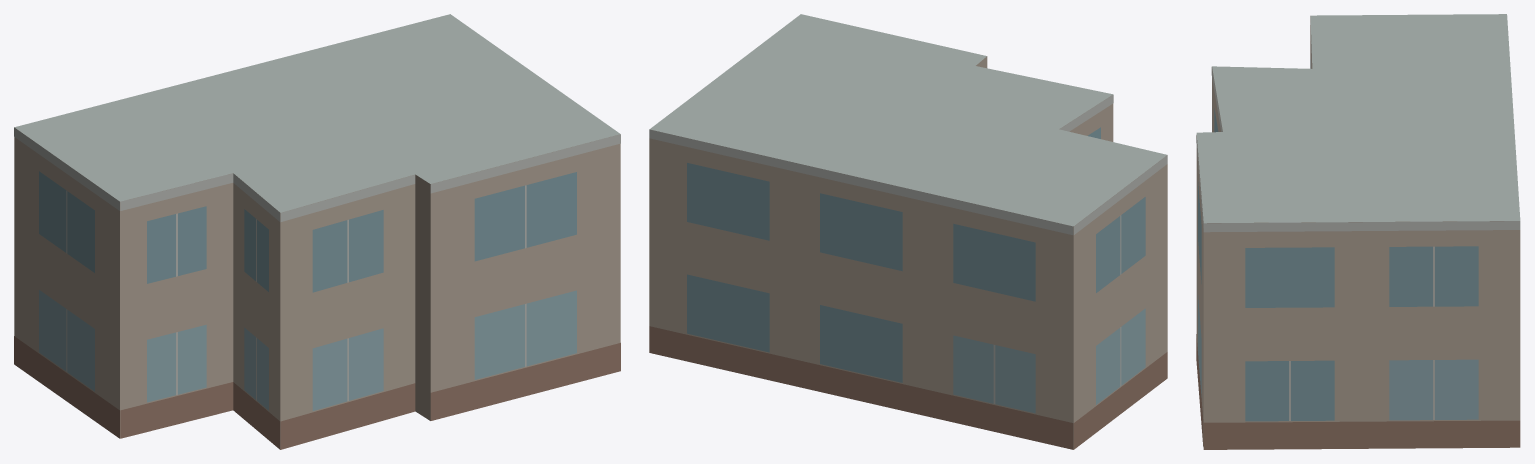
File: survey-upis-32947105.glb
3 renders of one model, left to right at view 1: azimuth 30°, elevation 25°; view 2: azimuth 150°, elevation 25°; view 3: azimuth 270°, elevation 25°, orthographic. The views are drawn at different scales.
Visible parts, largest first — view 1: survey-upis-32947105.tmp; view 2: survey-upis-32947105.tmp; view 3: survey-upis-32947105.tmp.
Boxes of the visible parts, x1,y1,x2,y2 form: survey-upis-32947105.tmp: [14, 14, 620, 449]; survey-upis-32947105.tmp: [649, 14, 1167, 449]; survey-upis-32947105.tmp: [1196, 14, 1520, 449].
Bounding box in the file's own units: 12.08 × 6.1 × 7.91.
